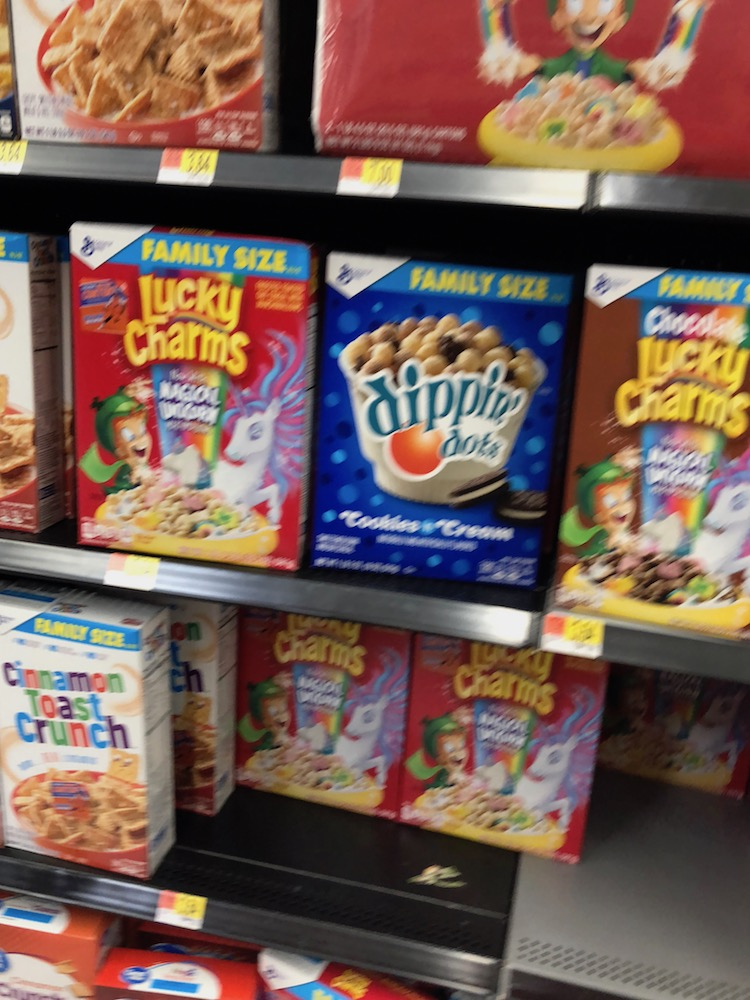Dippin Dots Cookies & Cream -568929378: (313, 259, 570, 614)
